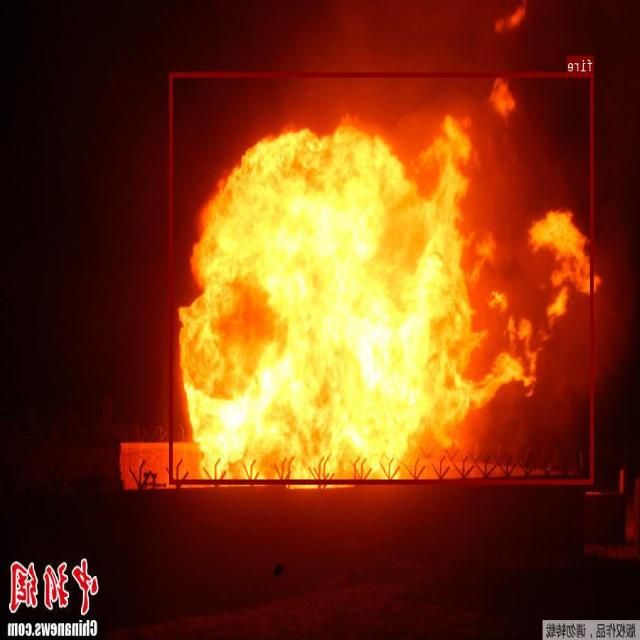fire: (170, 72, 594, 483)
